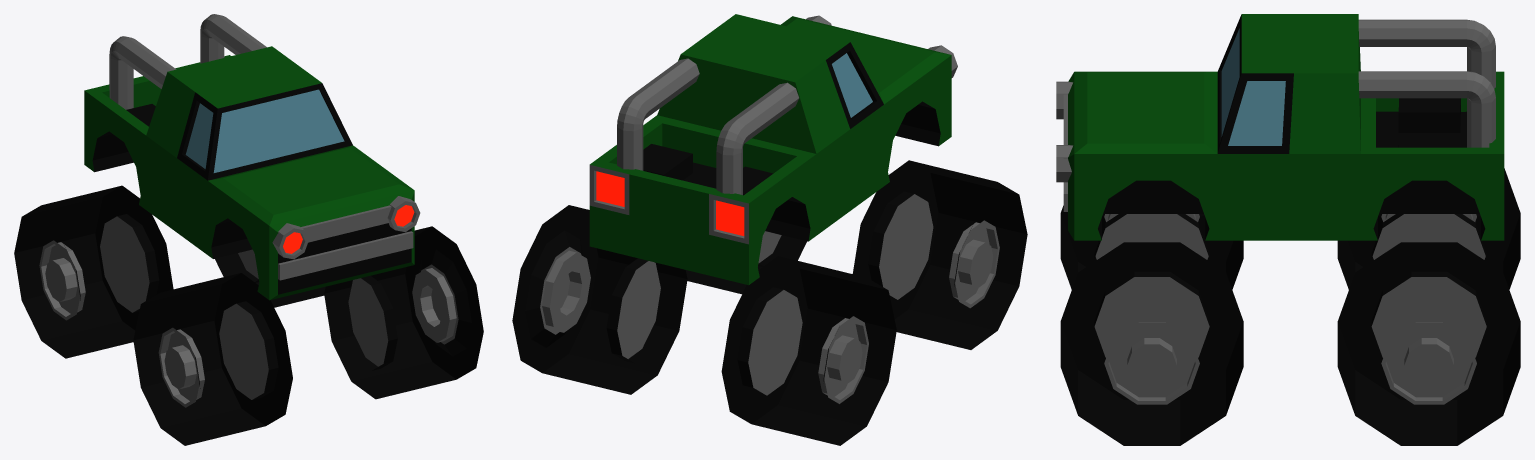
File: car3.glb
3 views of the same model, side by side, from view 1: azimuth 30°, elevation 25°; view 2: azimuth 150°, elevation 25°; view 3: azimuth 270°, elevation 25° (orthographic). The views are drawn at different scales.
Visible parts, largest first — view 1: Cube_4; view 2: Cube_4; view 3: Cube_4.
Part boxes in pixels (x1=…): Cube_4: x1=14, y1=14, x2=483, y2=445; Cube_4: x1=512, y1=14, x2=1027, y2=445; Cube_4: x1=1056, y1=14, x2=1520, y2=445.
Size of what is drawn, in the model's own units: 7.63 by 7.51 by 9.72.
